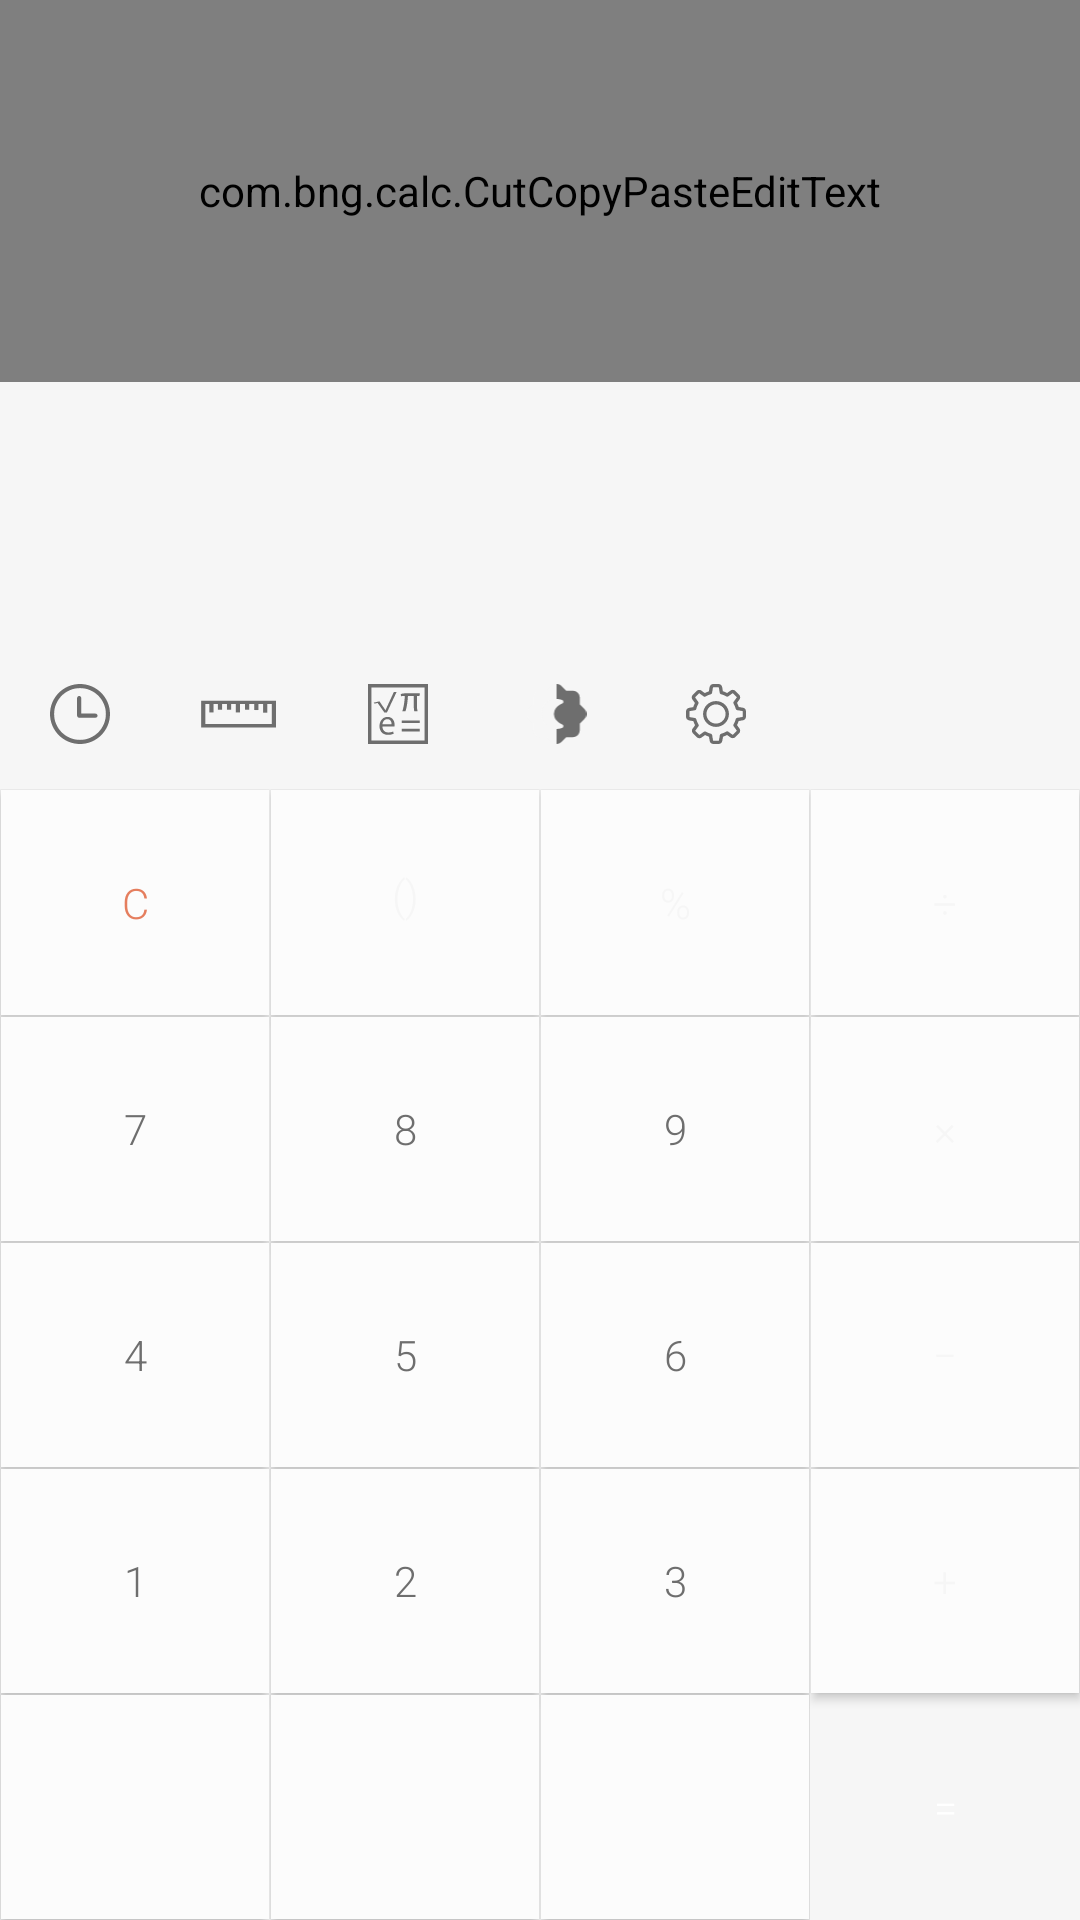

Icons on this 1080px×1920px Android screen, each with the point to tap as (x=x, y=y):
history: (x=80, y=714)
length: (x=238, y=714)
settings: (x=716, y=714)
